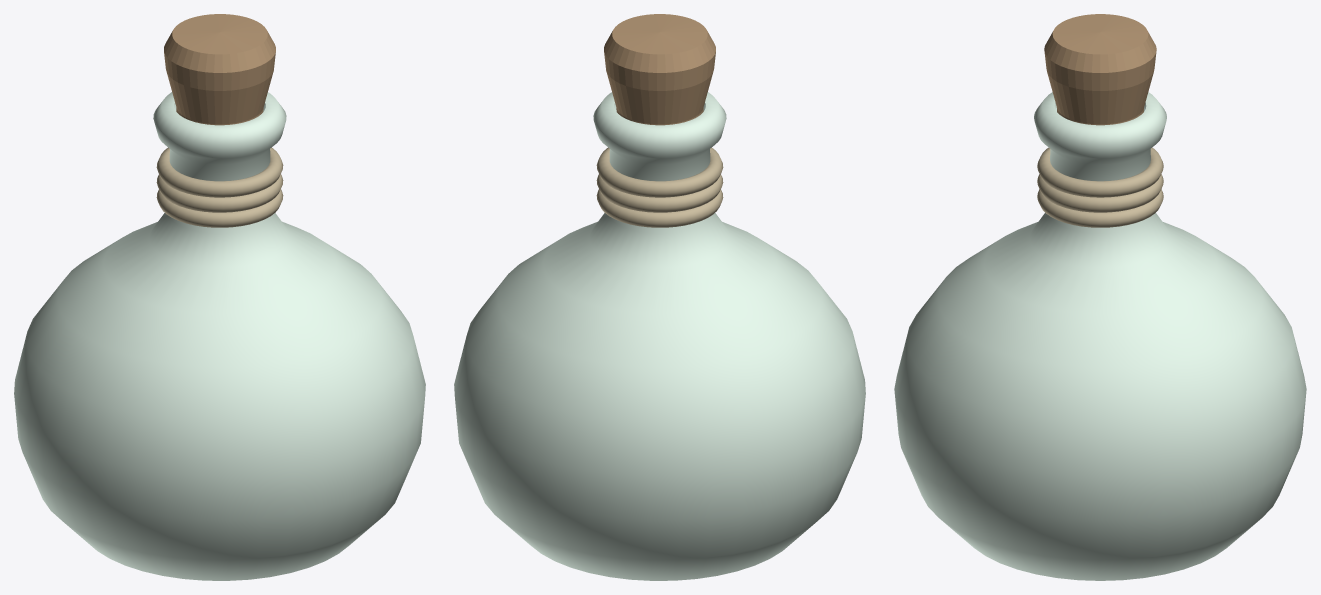
The model's file is potion_held.glb.
3 views of the same model, side by side, from view 1: azimuth 30°, elevation 25°; view 2: azimuth 150°, elevation 25°; view 3: azimuth 270°, elevation 25° (orthographic).
Visible parts, largest first — view 1: Glass, Cork, Twine2, Twine1, Twine0; view 2: Glass, Cork, Twine2, Twine1, Twine0; view 3: Glass, Cork, Twine2, Twine1, Twine0.
Part boxes in pixels (x1,y1,x2,y2): Glass: (14, 92, 425, 580); Cork: (164, 14, 275, 125); Twine2: (156, 147, 283, 197); Twine1: (156, 174, 283, 212); Twine0: (156, 189, 283, 227); Glass: (454, 92, 865, 580); Cork: (604, 14, 715, 125); Twine2: (596, 147, 723, 197); Twine1: (596, 174, 723, 212); Twine0: (596, 189, 723, 227); Glass: (894, 92, 1306, 580); Cork: (1044, 14, 1156, 125); Twine2: (1037, 147, 1163, 197); Twine1: (1037, 174, 1163, 212); Twine0: (1037, 189, 1163, 227).
Bounding box in the file's own units: 0.198 × 0.271 × 0.198.
